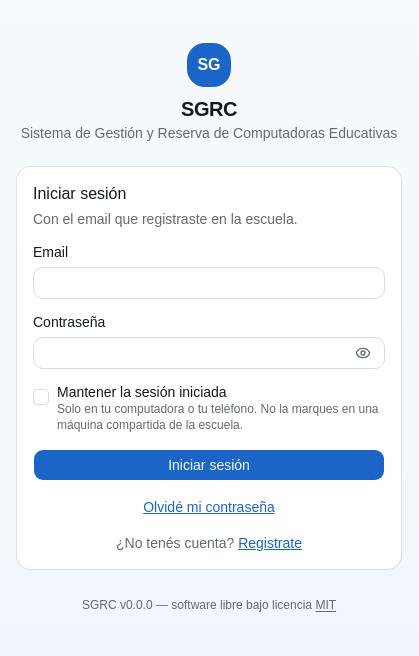
Test case: LoginPage › muestra el mensaje de error tal cual lo manda el backend
Type "nadie@test.com" into the field labelled "Email" at [209, 283], box [33,267,385,299]
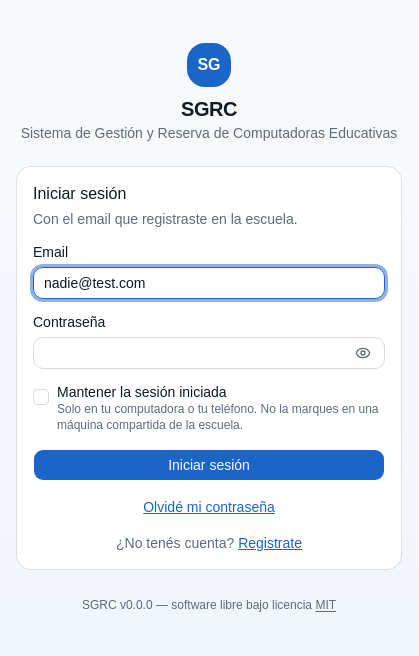
Type "mal" into the password field labelled "Contraseña" at [209, 353], box [33,337,385,369]
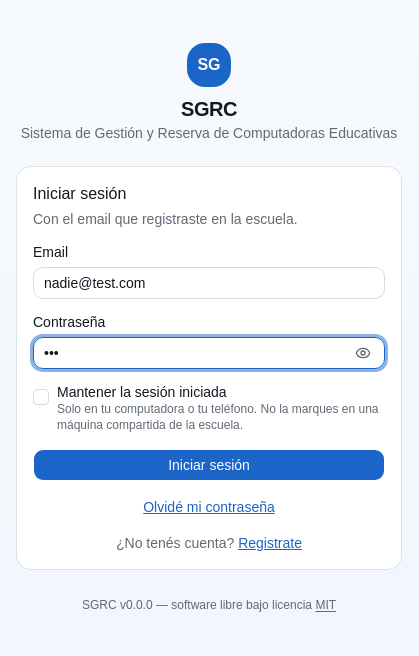
Click the button "Iniciar sesión" at [209, 465], box [33,449,385,481]
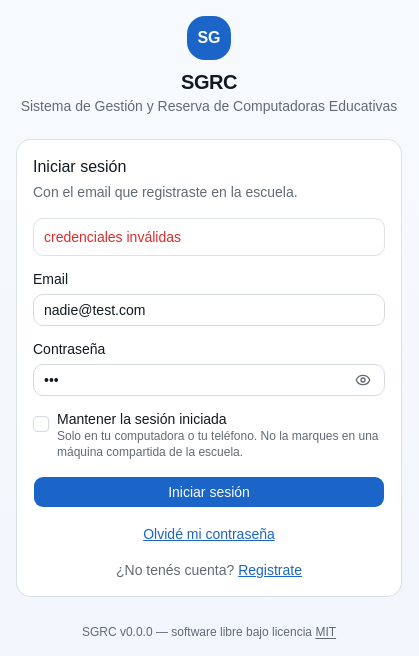
Expected: the text "credenciales inválidas" is shown, [44,229,181,245]
